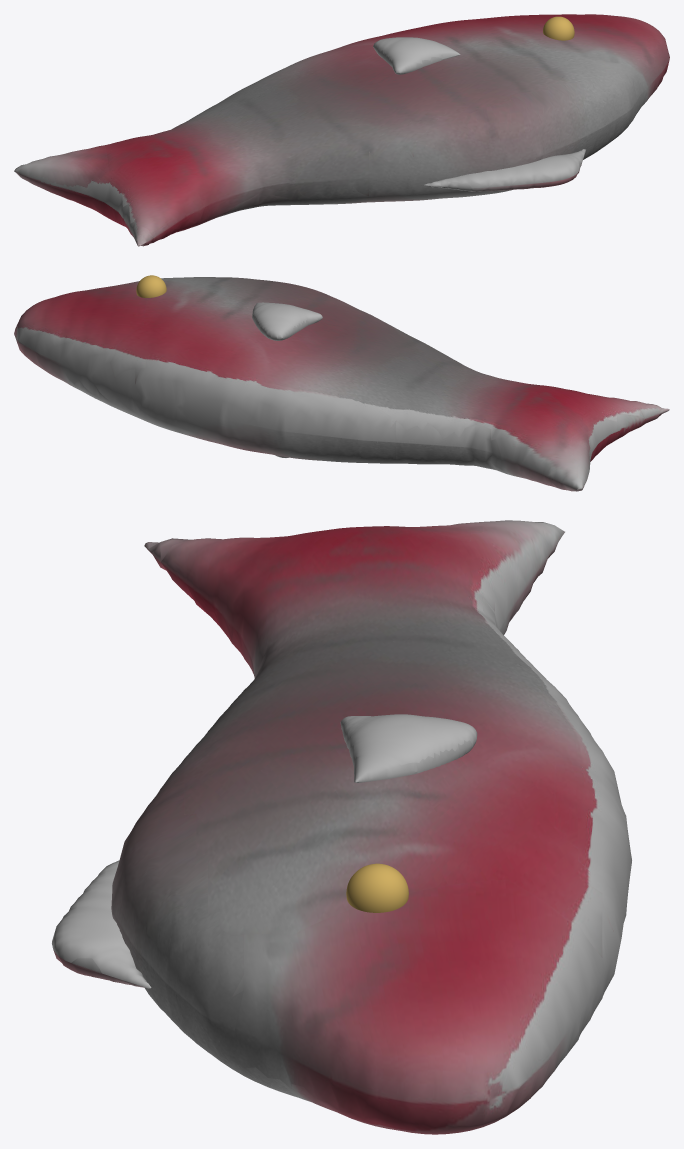
File: Pescado.obj
The picture shows the model from 3 angles, top to bottom: view 1: azimuth 30°, elevation 25°; view 2: azimuth 150°, elevation 25°; view 3: azimuth 270°, elevation 25°; orthographic projection. The views are drawn at different scales.
Visible parts, largest first — view 1: obj1, obj5, obj4, obj7; view 2: obj1, obj4, obj7; view 3: obj1, obj4, obj5, obj7.
Boxes of the visible parts, x1,y1,x2,y2 form: obj1: (14, 14, 669, 246); obj5: (423, 149, 585, 191); obj4: (373, 37, 460, 74); obj7: (543, 16, 574, 40); obj1: (14, 277, 669, 491); obj4: (252, 302, 322, 340); obj7: (136, 275, 166, 297); obj1: (111, 520, 631, 1134); obj4: (340, 714, 477, 782); obj5: (52, 860, 151, 988); obj7: (346, 863, 408, 912).
Size of the model in its own units: 0.1754 by 0.0392 by 0.0747.
Materials: 6 (6 with a texture image).
